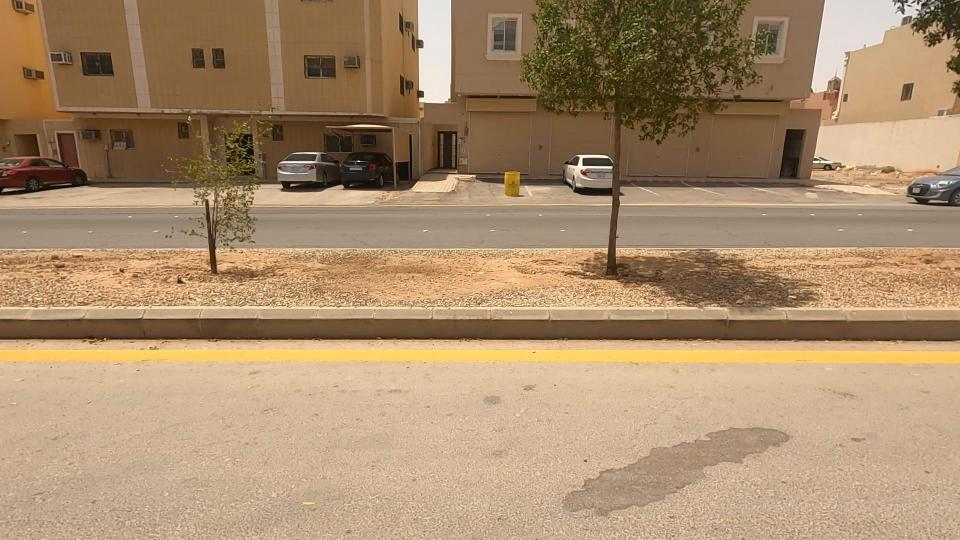CLUTTER_SIDEWALK: (161, 202, 638, 359), (564, 206, 937, 349)
